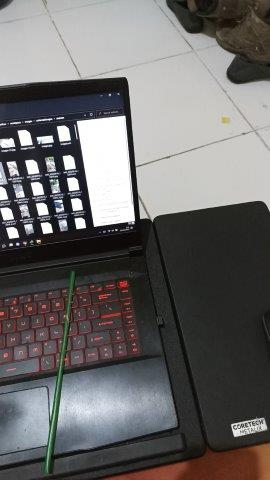sedotan: (44, 272, 76, 472)
